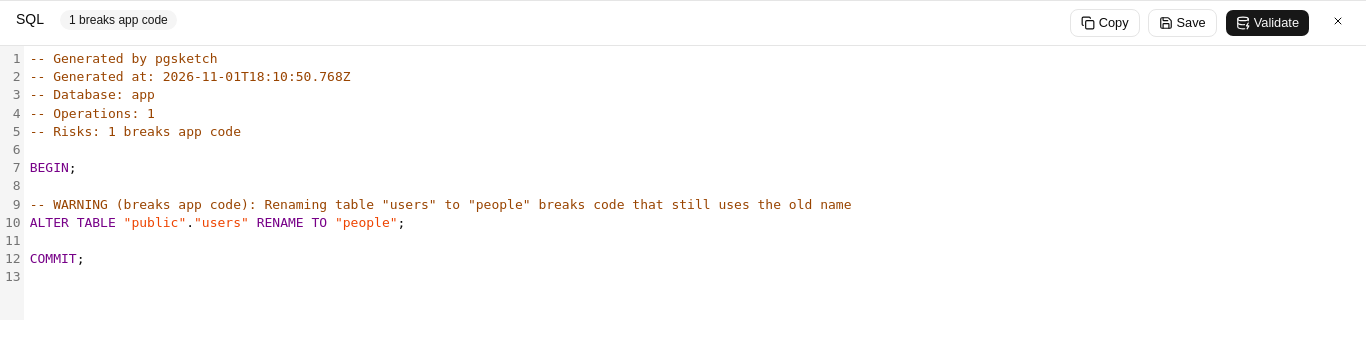
Test case: Validate › shows the failure with its error and code, and what was not run
Click the button "Validate". click: (1267, 23)
box: left=1225, top=9, right=1310, bottom=37
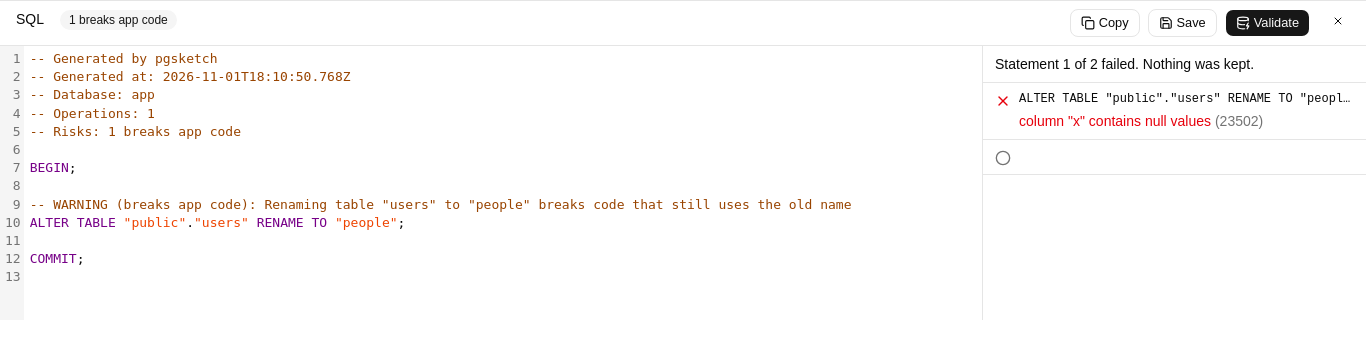
Check: the message "Statement 1 of 2 failed. Nothing was kept." is shown, box left=983, top=46, right=1365, bottom=83
Check: the message "column \"x\" contains null values (23502)" reads "column \"x\" contains null values (23502)", box left=1019, top=113, right=1263, bottom=129
Check: the icon named "Not run" is shown, box left=995, top=150, right=1011, bottom=166
